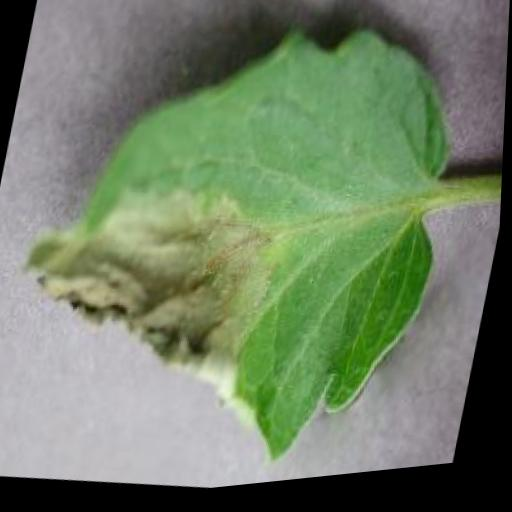Late Blight: (0, 0, 484, 506)
